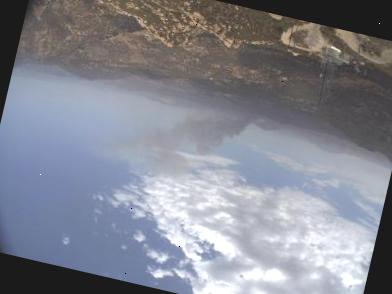smoke: (85, 70, 273, 206)
